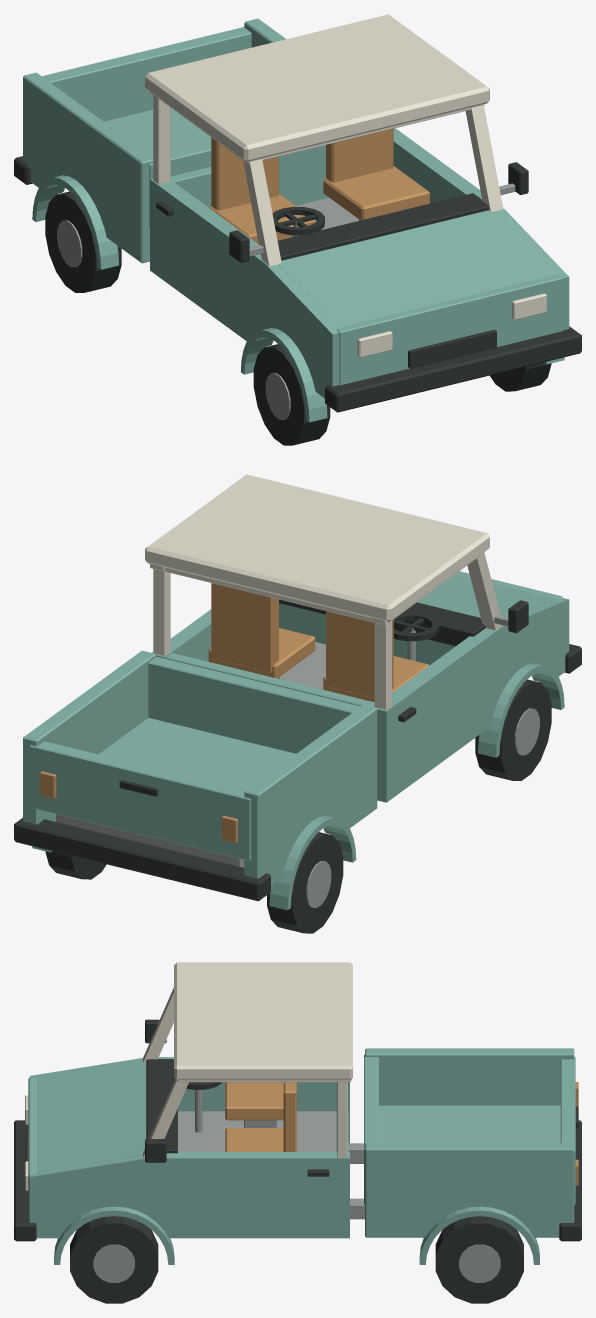
3 renders of one model, top to bottom at view 1: azimuth 30°, elevation 25°; view 2: azimuth 150°, elevation 25°; view 3: azimuth 270°, elevation 25°, orthographic. The views are drawn at different scales.
Visible parts, largest first — view 1: CabRoof_IndependentCap, Hood_ClosedSlopedDeck, CabLowerSide_Left, BedSide_Left, FrontApron, Tailgate_FixedClosed, Bumper_Front, Dashboard_Fixed, CabLowerSide_Right, Tyre_Rear_Left_FlatContact, Tyre_Front_Left_FlatContact, PassengerSeat_Cushion (+22 smaller); view 2: CabRoof_IndependentCap, CabLowerSide_Left, Tailgate_FixedClosed, BedSide_Left, BedFrontBulkhead, Bumper_Rear, BedSide_Right, BedFloor, PassengerSeat_Back, DriverSeat_Back, Tyre_Front_Left_FlatContact, Tyre_Rear_Left_FlatContact (+19 smaller); view 3: CabLowerSide_Right, CabRoof_IndependentCap, BedSide_Right, BedSide_Left, Hood_ClosedSlopedDeck, BedFloor, Tyre_Rear_Right_FlatContact, Tyre_Front_Right_FlatContact, CabFloor, CabLowerSide_Left, DriverSeat_Cushion, Dashboard_Fixed (+16 smaller).
Part boxes in pixels (x1,y1,x2,y2): CabRoof_IndependentCap: [145, 14, 489, 161]; Hood_ClosedSlopedDeck: [278, 210, 554, 327]; CabLowerSide_Left: [150, 178, 338, 398]; BedSide_Left: [23, 72, 153, 263]; FrontApron: [336, 274, 562, 385]; Tailgate_FixedClosed: [42, 27, 251, 121]; Bumper_Front: [325, 326, 581, 412]; Dashboard_Fixed: [277, 193, 488, 260]; CabLowerSide_Right: [393, 128, 569, 330]; Tyre_Rear_Left_FlatContact: [45, 191, 121, 292]; Tyre_Front_Left_FlatContact: [253, 344, 330, 445]; PassengerSeat_Cushion: [323, 166, 429, 220]; CabRoof_IndependentCap: [145, 474, 489, 621]; CabLowerSide_Left: [373, 598, 569, 802]; Tailgate_FixedClosed: [29, 741, 251, 860]; BedSide_Left: [244, 704, 377, 885]; BedFrontBulkhead: [148, 656, 360, 753]; Bumper_Rear: [14, 818, 270, 901]; BedSide_Right: [23, 650, 155, 824]; BedFloor: [99, 718, 295, 790]; PassengerSeat_Back: [211, 583, 278, 672]; DriverSeat_Back: [326, 611, 393, 698]; Tyre_Front_Left_FlatContact: [475, 679, 551, 780]; Tyre_Rear_Left_FlatContact: [267, 832, 343, 933]; CabLowerSide_Right: [29, 1152, 349, 1238]; CabRoof_IndependentCap: [174, 962, 352, 1080]; BedSide_Right: [365, 1143, 574, 1237]; BedSide_Left: [365, 1048, 574, 1105]; Hood_ClosedSlopedDeck: [37, 1062, 146, 1171]; BedFloor: [379, 1105, 560, 1143]; Tyre_Rear_Right_FlatContact: [435, 1216, 523, 1303]; Tyre_Front_Right_FlatContact: [70, 1216, 158, 1303]; CabFloor: [178, 1111, 348, 1151]; CabLowerSide_Left: [29, 1057, 349, 1143]; DriverSeat_Cushion: [225, 1082, 283, 1120]; Dashboard_Fixed: [146, 1059, 177, 1153].
Size of the model in its own units: 2.32 by 2.07 by 4.5.
